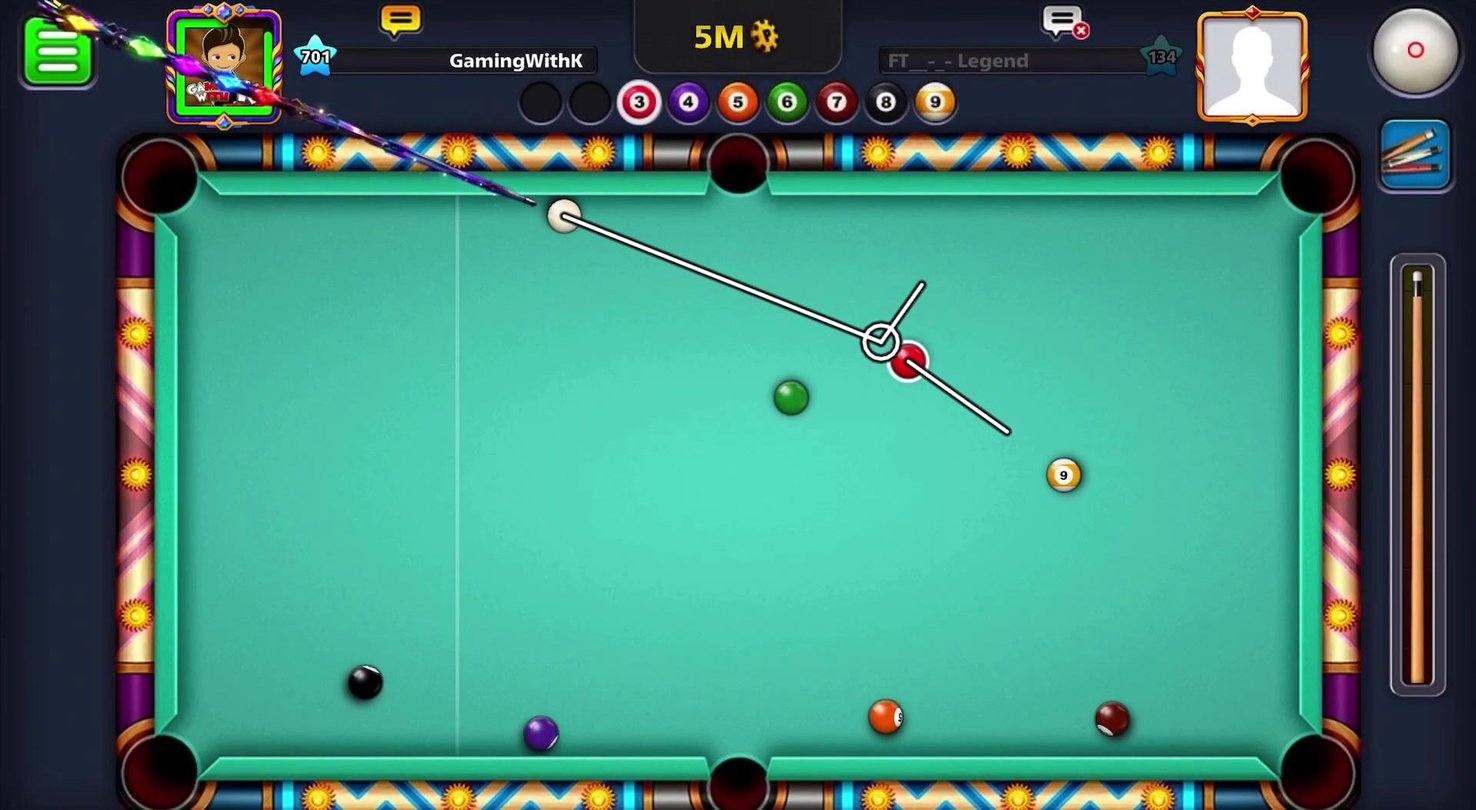Ball: (1041, 448, 1088, 500), (768, 372, 815, 420), (338, 662, 389, 703), (861, 695, 909, 736), (517, 714, 564, 755), (1091, 699, 1134, 739)
Force: (1385, 254, 1454, 704)
Guideline: (559, 211, 1025, 447)
Hole: (108, 126, 219, 232), (108, 712, 220, 809), (1261, 713, 1366, 809), (1269, 128, 1365, 229), (695, 124, 788, 212), (687, 742, 786, 809)
Play_Area: (175, 190, 1301, 762)
Spin: (1351, 0, 1475, 111)
White: (542, 193, 586, 237)
